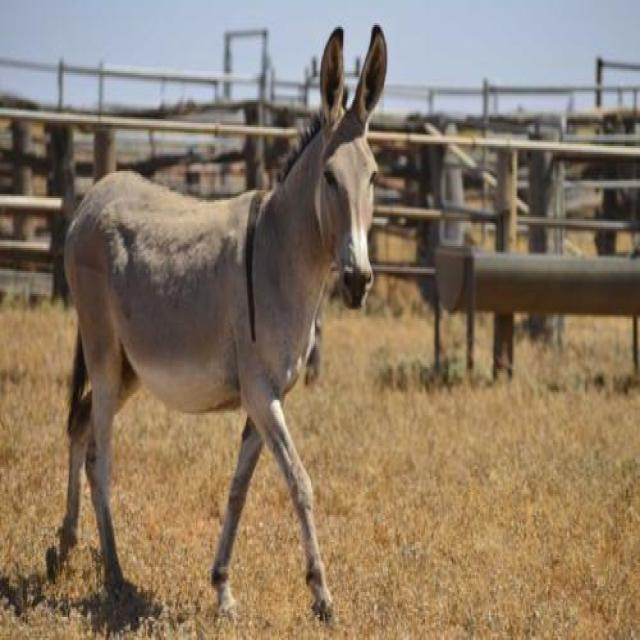Donkey: (47, 27, 387, 619)
